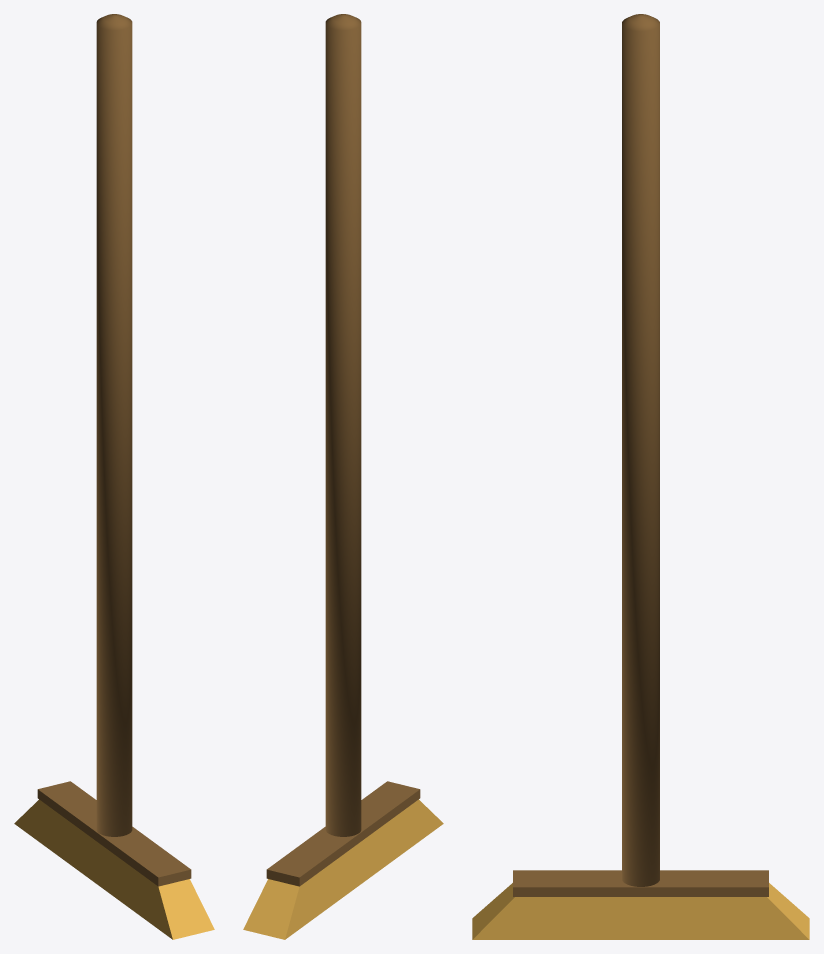
File: broom 1.fbx
3 renders of one model, left to right at view 1: azimuth 30°, elevation 25°; view 2: azimuth 150°, elevation 25°; view 3: azimuth 270°, elevation 25°, orthographic. The views are drawn at different scales.
Visible parts, largest first — view 1: Cylinder, Cube.001, Cube; view 2: Cylinder, Cube.001, Cube; view 3: Cylinder, Cube.001, Cube.
Part boxes in pixels (left/top/right/bottom): Cylinder: left=96, top=14, right=132, bottom=836; Cube.001: left=14, top=799, right=214, bottom=939; Cube: left=37, top=781, right=191, bottom=886; Cylinder: left=325, top=14, right=361, bottom=836; Cube.001: left=243, top=799, right=443, bottom=939; Cube: left=266, top=781, right=420, bottom=886; Cylinder: left=622, top=14, right=659, bottom=886; Cube.001: left=472, top=883, right=809, bottom=939; Cube: left=513, top=870, right=768, bottom=896.
Size of the model in its own units: 85.99 by 1689 by 565.
